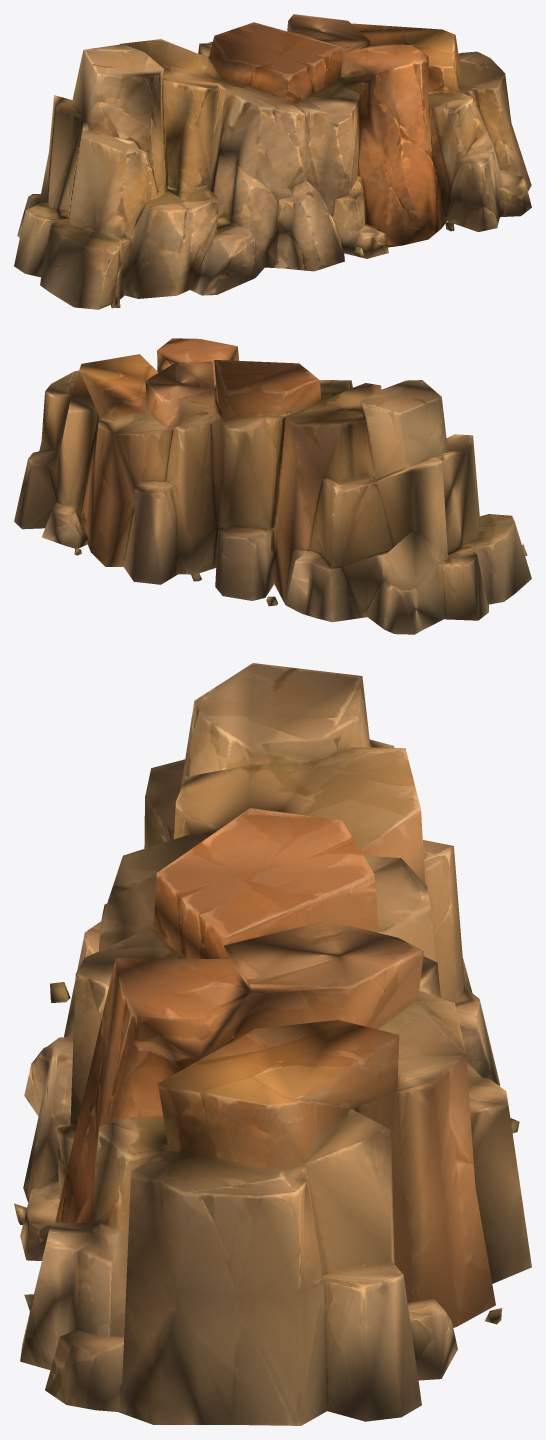
File: Meshy_AI_Sunstone_Cliffs_0830142734_texture.fbx
3 views of the same model, one above another, from view 1: azimuth 30°, elevation 25°; view 2: azimuth 150°, elevation 25°; view 3: azimuth 270°, elevation 25° (orthographic). The views are drawn at different scales.
Visible parts, largest first — view 1: mesh_node; view 2: mesh_node; view 3: mesh_node.
Boxes of the visible parts, x1,y1,x2,y2 form: mesh_node: (14,14,531,309); mesh_node: (14,338,531,634); mesh_node: (14,663,531,1425).
Bounding box in the file's own units: 753 × 300 × 371.
Materials: 1 (1 with a texture image).
